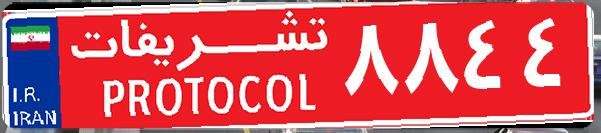4: (460, 20, 520, 115), (520, 20, 580, 115)
8: (340, 20, 400, 115), (400, 20, 460, 115)
تشریفات: (60, 8, 340, 125)
